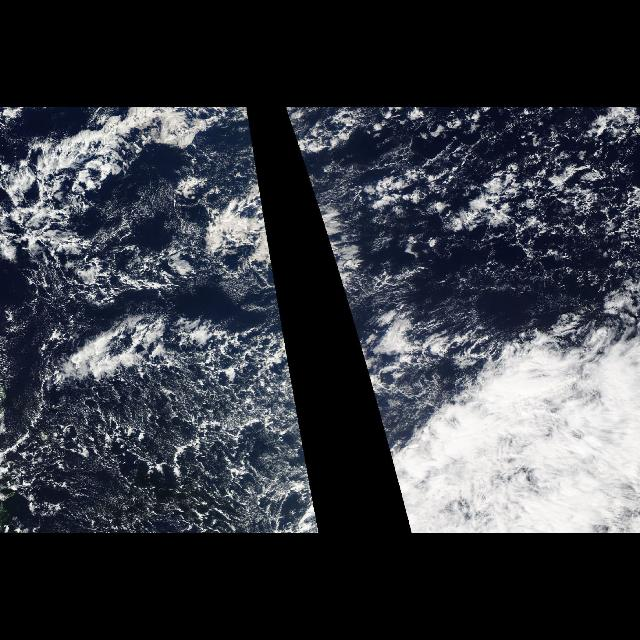Fish: (3, 108, 285, 418)
